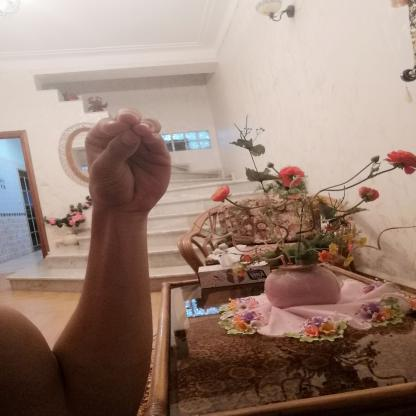HA: (59, 96, 196, 230)
